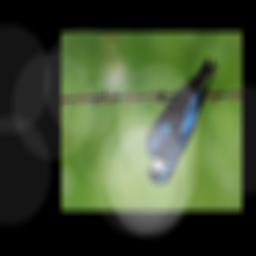Swallow: (144, 57, 219, 184)
